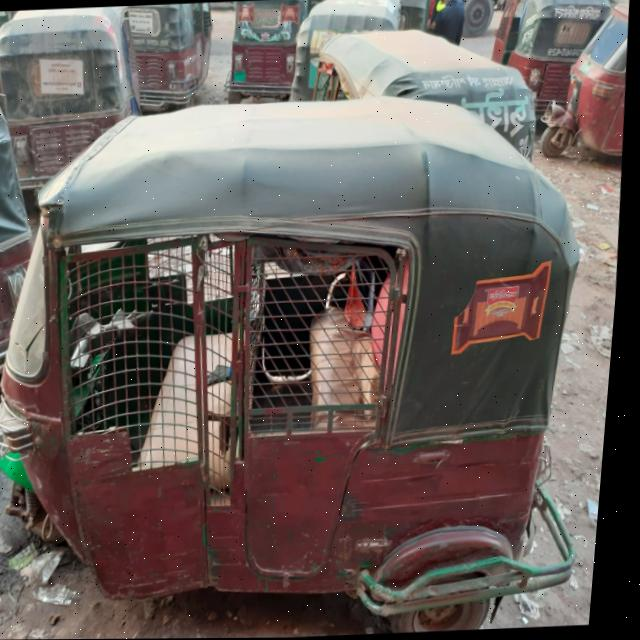cng: (0, 119, 619, 640)
